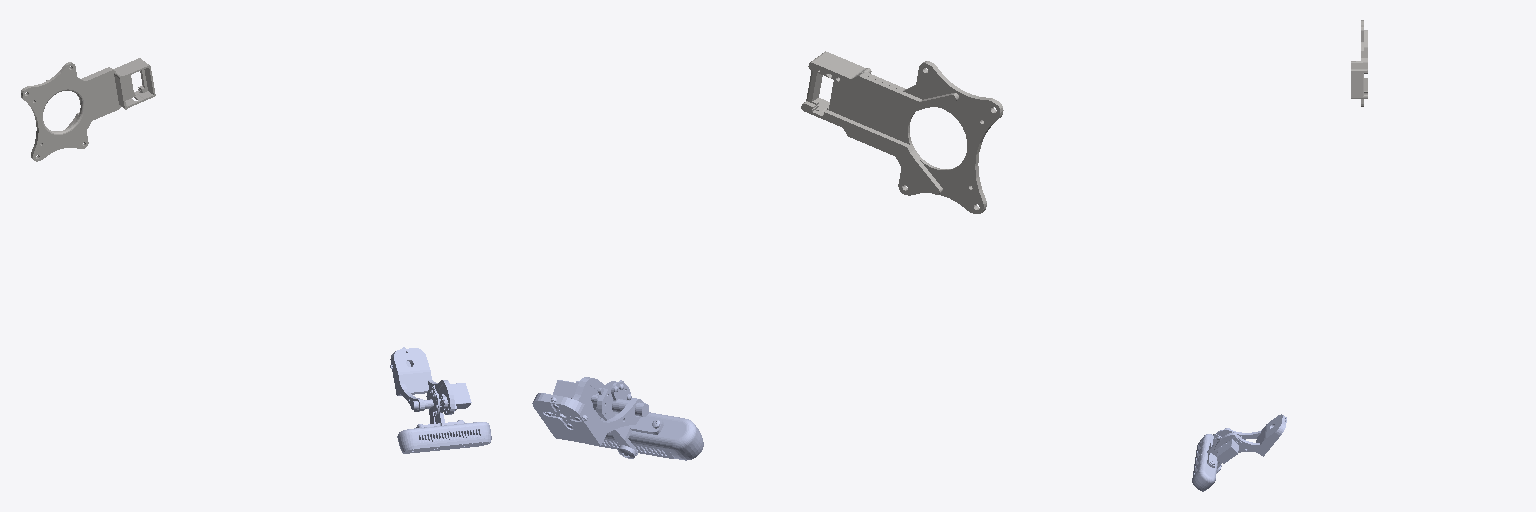
robot.urdf — avp_model:
<?xml version="1.0" encoding="utf-8"?>
<!-- This URDF was automatically created by SolidWorks to URDF Exporter! Originally created by Stephen Brawner (brawner@gmail.com) 
     Commit Version: 1.6.0-4-g7f85cfe  Build Version: 1.6.7995.38578
     For more information, please see http://wiki.ros.org/sw_urdf_exporter -->
<robot
  name="avp_model">
  <link
    name="base_link">
    <inertial>
      <origin
        xyz="0.325112384314795 -0.0501196108892909 -0.283394234336107"
        rpy="0 0 0" />
      <mass
        value="0.0531975223507682" />
      <inertia
        ixx="5.0643849940132E-05"
        ixy="-1.05612861415327E-06"
        ixz="-1.41697818873433E-06"
        iyy="5.1204926922399E-05"
        iyz="-2.29108365711597E-05"
        izz="3.45494710328934E-05" />
    </inertial>
    <visual>
      <origin
        xyz="0 0 0"
        rpy="0 0 0" />
      <geometry>
        <mesh
          filename="package://avp_model/meshes/base_link.STL" />
      </geometry>
      <material
        name="">
        <color
          rgba="0.741176470588235 0.733333333333333 0.725490196078431 1" />
      </material>
    </visual>
    <collision>
      <origin
        xyz="0 0 0"
        rpy="0 0 0" />
      <geometry>
        <mesh
          filename="package://avp_model/meshes/base_link.STL" />
      </geometry>
    </collision>
  </link>
  <link
    name="Yaw_Link">
    <inertial>
      <origin
        xyz="0.0387817092188897 -0.014555591654332 0.00907129877059223"
        rpy="0 0 0" />
      <mass
        value="0.0743767050613524" />
      <inertia
        ixx="1.31447436238562E-05"
        ixy="-3.61044207949233E-07"
        ixz="5.89080580571358E-07"
        iyy="3.77866228512475E-05"
        iyz="2.89886070072247E-06"
        izz="4.12875141791642E-05" />
    </inertial>
    <visual>
      <origin
        xyz="0 0 0"
        rpy="0 0 0" />
      <geometry>
        <mesh
          filename="package://avp_model/meshes/Yaw_Link.STL" />
      </geometry>
      <material
        name="">
        <color
          rgba="0.792156862745098 0.819607843137255 0.933333333333333 1" />
      </material>
    </visual>
    <collision>
      <origin
        xyz="0 0 0"
        rpy="0 0 0" />
      <geometry>
        <mesh
          filename="package://avp_model/meshes/Yaw_Link.STL" />
      </geometry>
    </collision>
  </link>
  <joint
    name="Yaw_Link"
    type="fixed">
    <origin
      xyz="0.27999 -0.17008 -0.34728"
      rpy="-2.2154 0.10346 -0.071673" />
    <parent
      link="base_link" />
    <child
      link="Yaw_Link" />
    <axis
      xyz="0 0 0" />
  </joint>
  <link
    name="Pitch_Link">
    <inertial>
      <origin
        xyz="0.0372013668182159 0.0059557373578632 0.000742361833906913"
        rpy="0 0 0" />
      <mass
        value="0.0466075633602317" />
      <inertia
        ixx="4.09360501139725E-06"
        ixy="-8.99433411814004E-09"
        ixz="2.63603869271789E-08"
        iyy="3.1585626044715E-05"
        iyz="-8.4588848981381E-08"
        izz="3.21678923156926E-05" />
    </inertial>
    <visual>
      <origin
        xyz="0 0 0"
        rpy="0 0 0" />
      <geometry>
        <mesh
          filename="package://avp_model/meshes/Pitch_Link.STL" />
      </geometry>
      <material
        name="">
        <color
          rgba="0.792156862745098 0.819607843137255 0.933333333333333 1" />
      </material>
    </visual>
    <collision>
      <origin
        xyz="0 0 0"
        rpy="0 0 0" />
      <geometry>
        <mesh
          filename="package://avp_model/meshes/Pitch_Link.STL" />
      </geometry>
    </collision>
  </link>
  <joint
    name="Pitch_Link"
    type="fixed">
    <origin
      xyz="0 0 0"
      rpy="0 0 0" />
    <parent
      link="Yaw_Link" />
    <child
      link="Pitch_Link" />
    <axis
      xyz="0 0 0" />
  </joint>
</robot>

--- What the picture shows (computed from the rendered views, not written in the file) ---
The picture shows the robot from 3 angles, left to right: view 1: azimuth 30°, elevation 25°; view 2: azimuth 150°, elevation 25°; view 3: azimuth 270°, elevation 25°; orthographic projection.
Robot: avp_model — 3 links, 2 joints (2 fixed); root link base_link; default pose: all joints at 0.
Links seen in each view (by area): view 1: base_link, Yaw_Link; view 2: base_link, Yaw_Link; view 3: Yaw_Link, base_link.
Boxes of the visible links, x1=… form: base_link: x1=21, y1=58, x2=155, y2=161; Yaw_Link: x1=390, y1=347, x2=491, y2=453; base_link: x1=801, y1=51, x2=1003, y2=213; Yaw_Link: x1=532, y1=377, x2=703, y2=460; Yaw_Link: x1=1192, y1=414, x2=1286, y2=491; base_link: x1=1351, y1=20, x2=1367, y2=106.
Size in the robot's own frame: 0.4239 by 0.2027 by 0.424 metres.
3 mesh visuals loaded from 3 distinct referenced files (3 binary STL).
